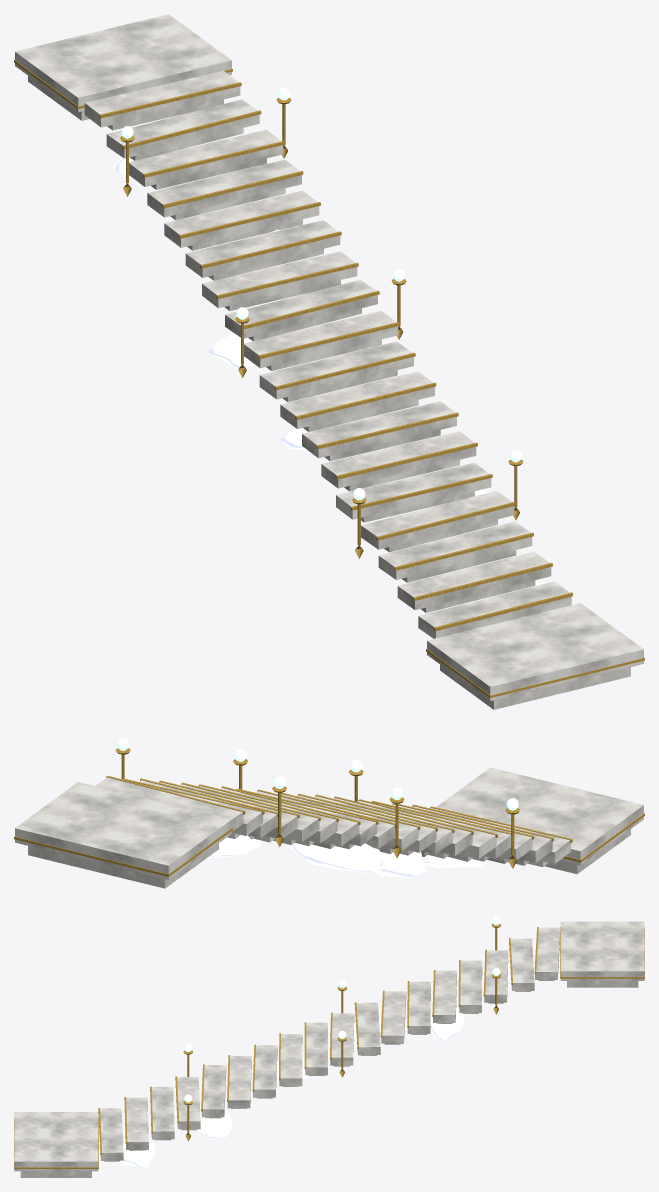
Rendered from sky_steps.glb.
3 views of the same model, one above another, from view 1: azimuth 30°, elevation 25°; view 2: azimuth 150°, elevation 25°; view 3: azimuth 270°, elevation 25° (orthographic). The views are drawn at different scales.
Parts seen in each view (by area): view 1: StairSlabs, StairGold, StairClouds; view 2: StairSlabs, StairGold, StairClouds, StairLamps; view 3: StairSlabs, StairGold, StairClouds.
Part boxes in pixels (x1,y1,x2,y2): StairSlabs: (15, 14, 643, 709); StairGold: (14, 60, 644, 698); StairClouds: (112, 143, 545, 605); StairSlabs: (15, 767, 643, 888); StairGold: (14, 748, 644, 876); StairClouds: (207, 835, 487, 877); StairLamps: (117, 738, 518, 810); StairSlabs: (14, 921, 644, 1177); StairGold: (14, 924, 644, 1168); StairClouds: (117, 961, 537, 1167).
Size of what is drawn, in the model's own units: 6.36 by 11.22 by 30.04.
Materials: 4 (2 with a texture image).
